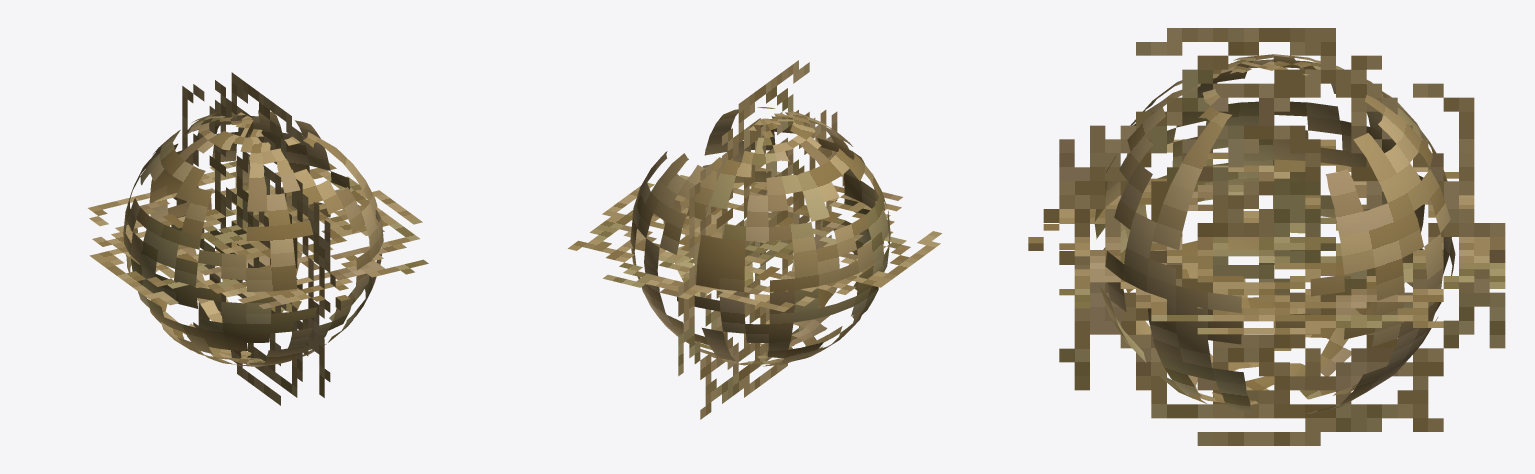
File: perikatipoleAnimation (2) #718009.fbx
The picture shows the model from 3 angles, left to right: view 1: azimuth 30°, elevation 25°; view 2: azimuth 150°, elevation 25°; view 3: azimuth 270°, elevation 25°; orthographic projection. The views are drawn at different scales.
Parts seen in each view (by area): view 1: Sphere, Quad (2), Quad (1); view 2: Sphere, Quad (1), Quad (2); view 3: Quad (1), Sphere, Quad (2).
Part boxes in pixels (x1=…): Sphere: x1=123, y1=110, x2=383, y2=366; Quad (2): x1=88, y1=161, x2=428, y2=308; Quad (1): x1=171, y1=72, x2=340, y2=405; Sphere: x1=630, y1=107, x2=890, y2=366; Quad (1): x1=678, y1=60, x2=844, y2=419; Quad (2): x1=568, y1=167, x2=941, y2=311; Quad (1): x1=1028, y1=28, x2=1505, y2=445; Sphere: x1=1094, y1=54, x2=1455, y2=413; Quad (2): x1=1028, y1=139, x2=1505, y2=334.
Size of the model in its own units: 1.34 by 1.34 by 1.34.
Materials: 1 (1 with a texture image).
